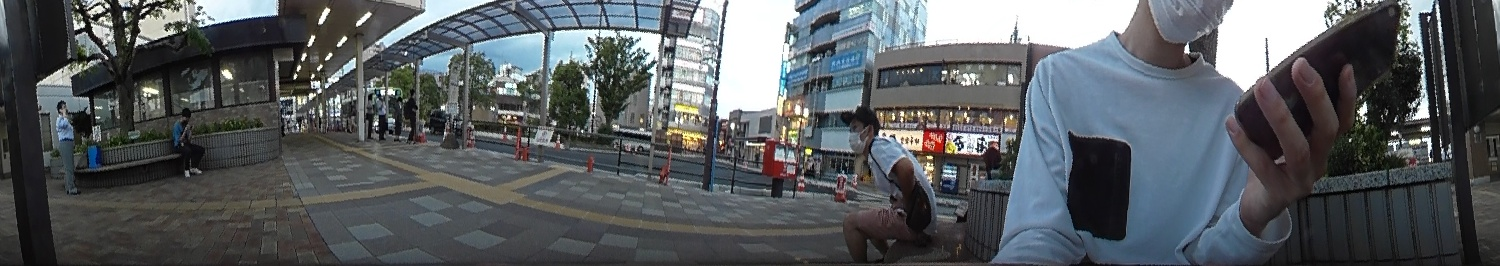difficult_person: (949, 138, 1007, 219), (400, 87, 422, 144), (373, 88, 388, 140), (389, 91, 403, 141), (363, 89, 376, 138)
person: (833, 97, 939, 257), (51, 99, 90, 195), (170, 106, 209, 173)
